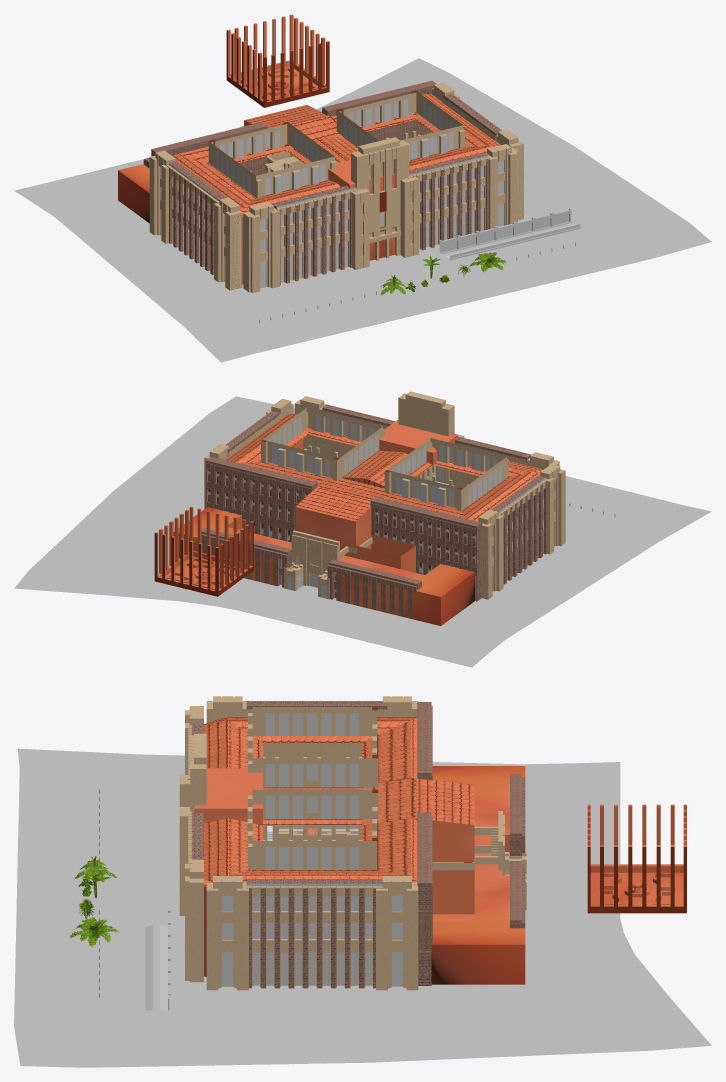
The model's file is antioquia vr.fbx.
3 renders of one model, top to bottom at view 1: azimuth 30°, elevation 25°; view 2: azimuth 150°, elevation 25°; view 3: azimuth 270°, elevation 25°, orthographic. The views are drawn at different scales.
Parts seen in each view (by area): view 1: piso, pared frontal, tejas, BALCONES PATIO SEG PISO, patio.001, torreon front left, pared lateral alta, Cube.008, torreon left front, pared trasera alta, sotano y zona verde, torreones frontales centro (+2 smaller); view 2: piso, tejas, pared trasera alta, BALCONES PATIO SEG PISO, patio.001, pared lateral alta, pared trasera baja, entrada trasera, torreon left back, pared frontal, Cube.008, torreon left front (+2 smaller); view 3: piso, tejas, pared lateral alta, BALCONES PATIO SEG PISO, patio.001, torreon left front, torreon left back, pared trasera alta, torreon front left, sotano y zona verde, pared trasera baja, patio (+6 smaller).
Part boxes in pixels (box(x1,y1,x2,y2)): piso: box(14, 58, 711, 362); pared frontal: box(272, 152, 489, 284); tejas: box(118, 94, 500, 284); BALCONES PATIO SEG PISO: box(208, 90, 464, 197); patio.001: box(226, 14, 329, 107); torreon front left: box(243, 144, 517, 293); pared lateral alta: box(166, 94, 502, 274); Cube.008: box(351, 137, 408, 260); torreon left front: box(214, 129, 523, 290); pared trasera alta: box(151, 80, 436, 175); sotano y zona verde: box(439, 208, 580, 260); torreones frontales centro: box(352, 177, 418, 269); piso: box(14, 396, 711, 667); tejas: box(173, 413, 542, 625); pared trasera alta: box(205, 456, 482, 601); BALCONES PATIO SEG PISO: box(261, 408, 508, 510); patio.001: box(154, 506, 253, 596); pared lateral alta: box(225, 410, 547, 584); pared trasera baja: box(201, 527, 421, 618); entrada trasera: box(284, 530, 339, 599); torreon left back: box(204, 444, 503, 599); pared frontal: box(322, 404, 531, 488); Cube.008: box(398, 391, 454, 484); torreon left front: box(266, 398, 565, 554); piso: box(14, 748, 711, 1067); tejas: box(195, 716, 525, 984); pared lateral alta: box(246, 701, 387, 988); BALCONES PATIO SEG PISO: box(247, 707, 378, 869); patio.001: box(587, 804, 686, 913); torreon left front: box(206, 696, 248, 990); torreon left back: box(376, 696, 418, 990); pared trasera alta: box(417, 702, 432, 985); torreon front left: box(185, 706, 203, 982); sotano y zona verde: box(143, 910, 170, 1010); pared trasera baja: box(510, 774, 525, 928); patio: box(263, 757, 361, 840).
Bounding box in the file's own units: 465 × 110 × 430.
